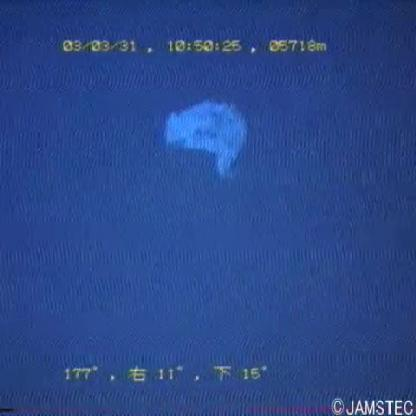Rác: (157, 92, 256, 182)
